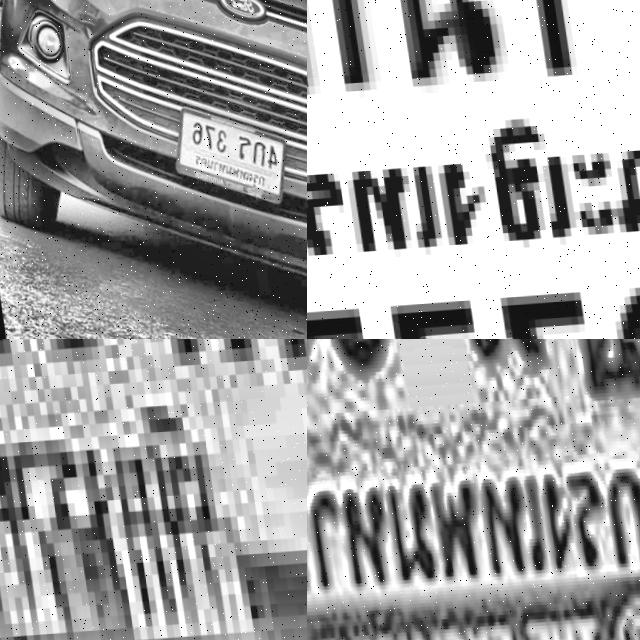license-plate: (307, 0, 640, 339), (307, 339, 640, 640), (0, 339, 307, 640), (160, 98, 288, 214)
